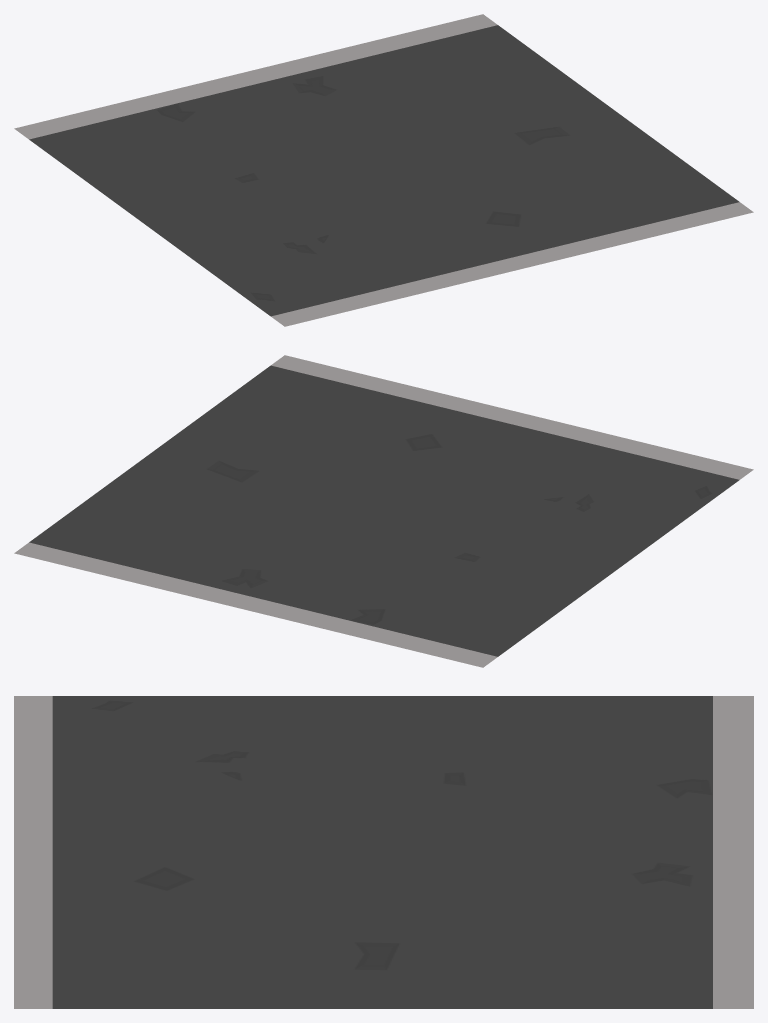
The model's file is SM_Gen_Env_Road_Small_03.fbx.
The picture shows the model from 3 angles, top to bottom: view 1: azimuth 30°, elevation 25°; view 2: azimuth 150°, elevation 25°; view 3: azimuth 270°, elevation 25°; orthographic projection. The views are drawn at different scales.
Parts seen in each view (by area): view 1: SM_Gen_Env_Road_Small_03; view 2: SM_Gen_Env_Road_Small_03; view 3: SM_Gen_Env_Road_Small_03.
Part boxes in pixels (x1,y1,x2,y2): SM_Gen_Env_Road_Small_03: (14, 14, 753, 326); SM_Gen_Env_Road_Small_03: (14, 355, 753, 667); SM_Gen_Env_Road_Small_03: (14, 696, 753, 1008).
Bounding box in the file's own units: 500 × 1.06e-17 × 500.
